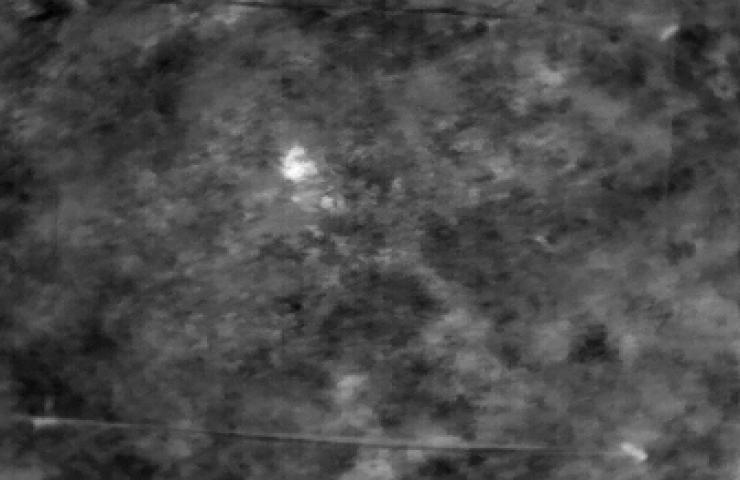landmines: (277, 141, 320, 186)
